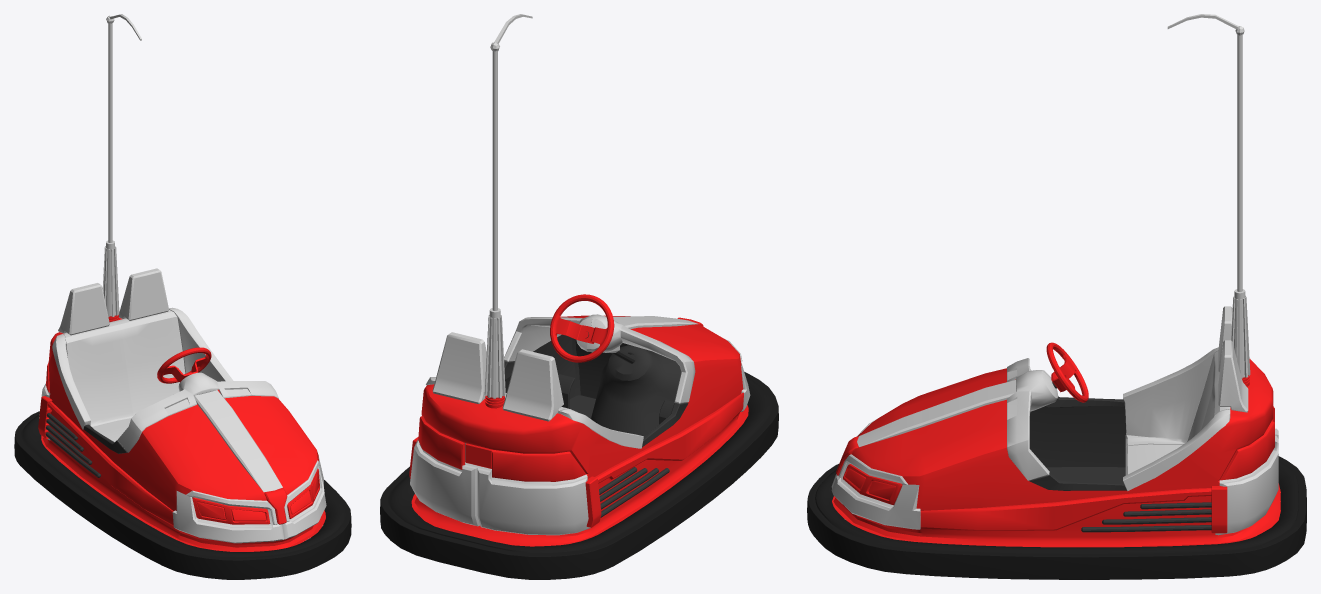
File: Bumper_Car_AI1.obj
3 views of the same model, side by side, from view 1: azimuth 30°, elevation 25°; view 2: azimuth 150°, elevation 25°; view 3: azimuth 270°, elevation 25° (orthographic). The views are drawn at different scales.
Visible parts, largest first — view 1: polySurface642, polySurface607, polySurface483, polySurface632; view 2: polySurface607, polySurface642, polySurface483, polySurface632; view 3: polySurface607, polySurface642, polySurface483, polySurface632.
Part boxes in pixels (bbox=[...]): polySurface642: bbox=[39, 268, 326, 543]; polySurface607: bbox=[38, 14, 325, 551]; polySurface483: bbox=[14, 411, 351, 579]; polySurface632: bbox=[45, 413, 192, 497]; polySurface607: bbox=[409, 14, 748, 546]; polySurface642: bbox=[410, 314, 750, 535]; polySurface483: bbox=[380, 372, 778, 579]; polySurface632: bbox=[504, 334, 688, 517]; polySurface607: bbox=[832, 14, 1280, 547]; polySurface642: bbox=[831, 306, 1278, 535]; polySurface483: bbox=[807, 456, 1306, 579]; polySurface632: bbox=[866, 396, 1211, 532].
Size of the model in its own units: 8.04 by 16.36 by 14.56.
